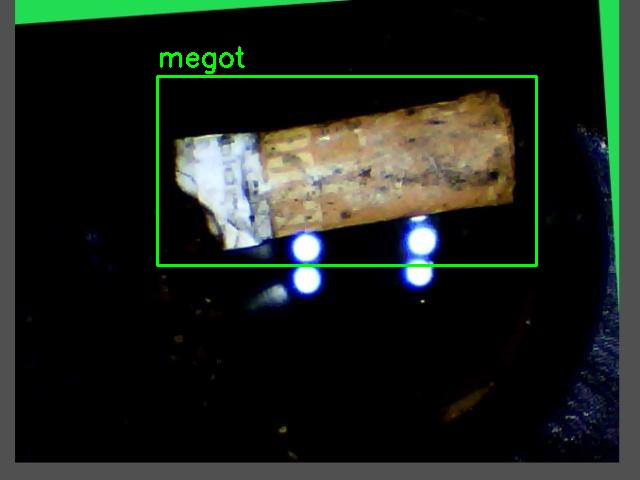megot: (157, 76, 536, 265)
